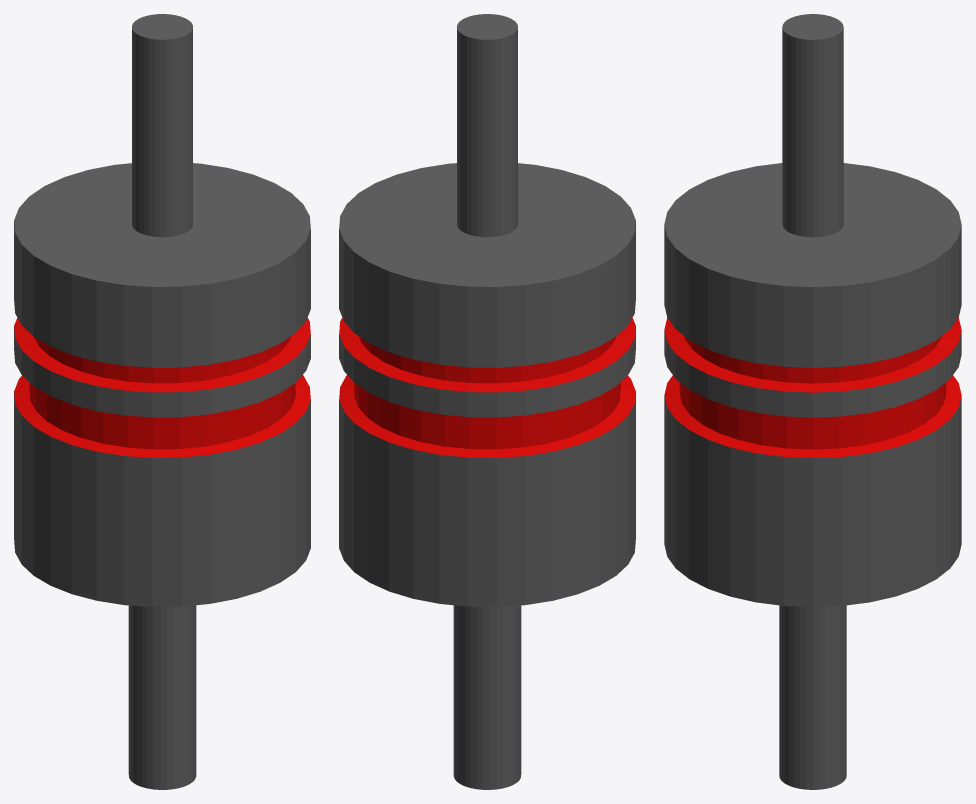
Rendered from fuse.fbx.
3 views of the same model, side by side, from view 1: azimuth 30°, elevation 25°; view 2: azimuth 150°, elevation 25°; view 3: azimuth 270°, elevation 25° (orthographic).
Parts seen in each view (by area): view 1: Cylinder; view 2: Cylinder; view 3: Cylinder.
Boxes of the visible parts, <box> form: Cylinder: <box>14,14,310,789</box>; Cylinder: <box>339,14,635,789</box>; Cylinder: <box>664,14,961,789</box>.
Bounding box in the file's own units: 83.03 × 231 × 83.03.
